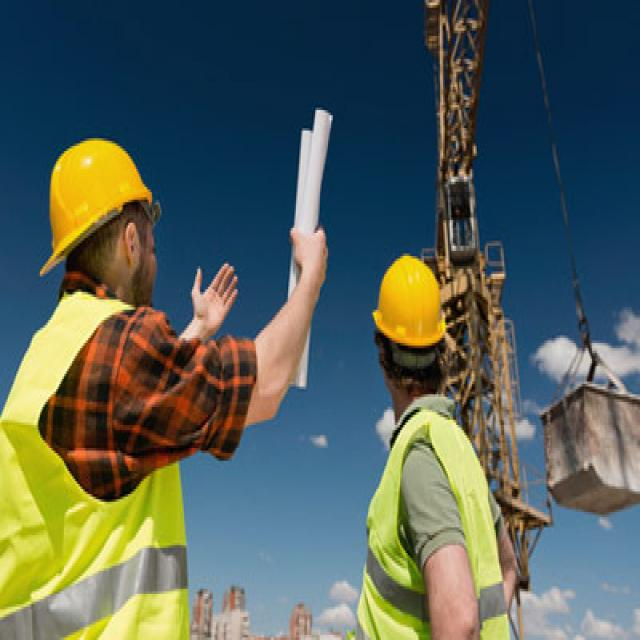Reflective-Jacket: (0, 292, 200, 640), (350, 397, 517, 640)
Safety-Helmet: (37, 130, 157, 272), (366, 246, 454, 361)
